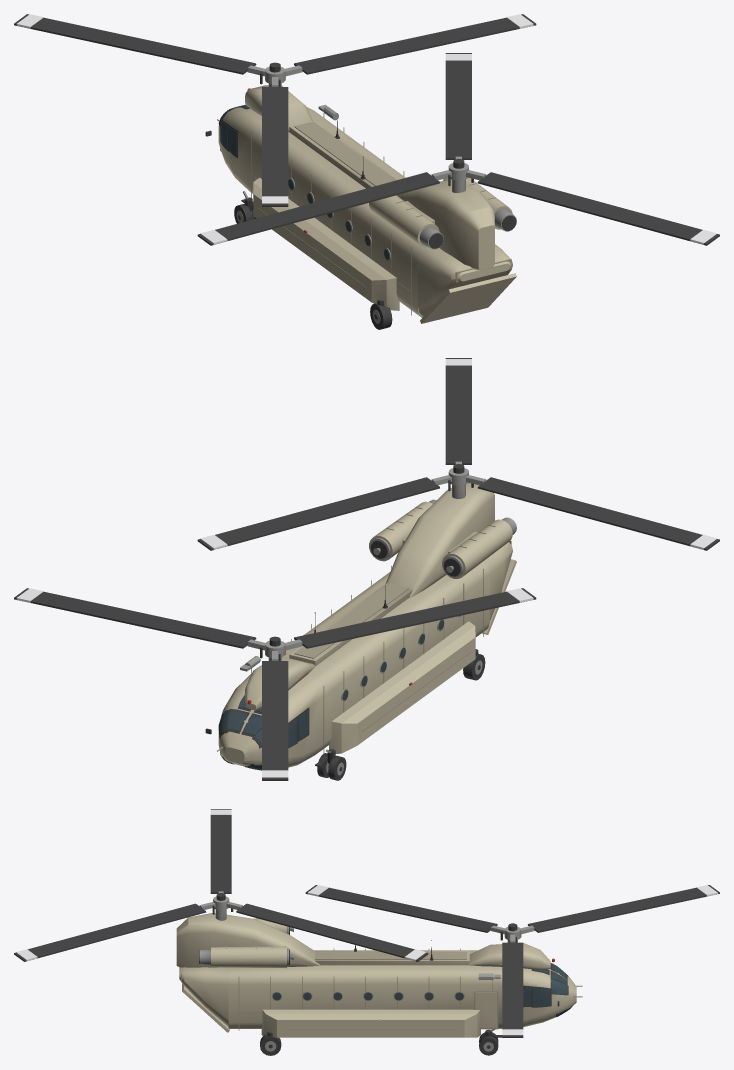
File: usa_heli_ch47.glb
3 views of the same model, one above another, from view 1: azimuth 30°, elevation 25°; view 2: azimuth 150°, elevation 25°; view 3: azimuth 270°, elevation 25° (orthographic). The views are drawn at different scales.
Parts seen in each view (by area): view 1: body, rotor, trotor, ramp; view 2: body, rotor, trotor; view 3: body, rotor, trotor.
Boxes of the visible parts, x1,y1,x2,y2 form: body: (205, 83, 516, 329); rotor: (14, 14, 536, 206); trotor: (197, 53, 719, 245); ramp: (420, 273, 516, 323); body: (205, 482, 516, 780); rotor: (14, 588, 536, 780); trotor: (197, 358, 719, 550); body: (176, 909, 582, 1055); rotor: (305, 885, 719, 1037); trotor: (14, 809, 428, 961).
Size of the model in its own units: 18.4 by 6.15 by 27.84.
